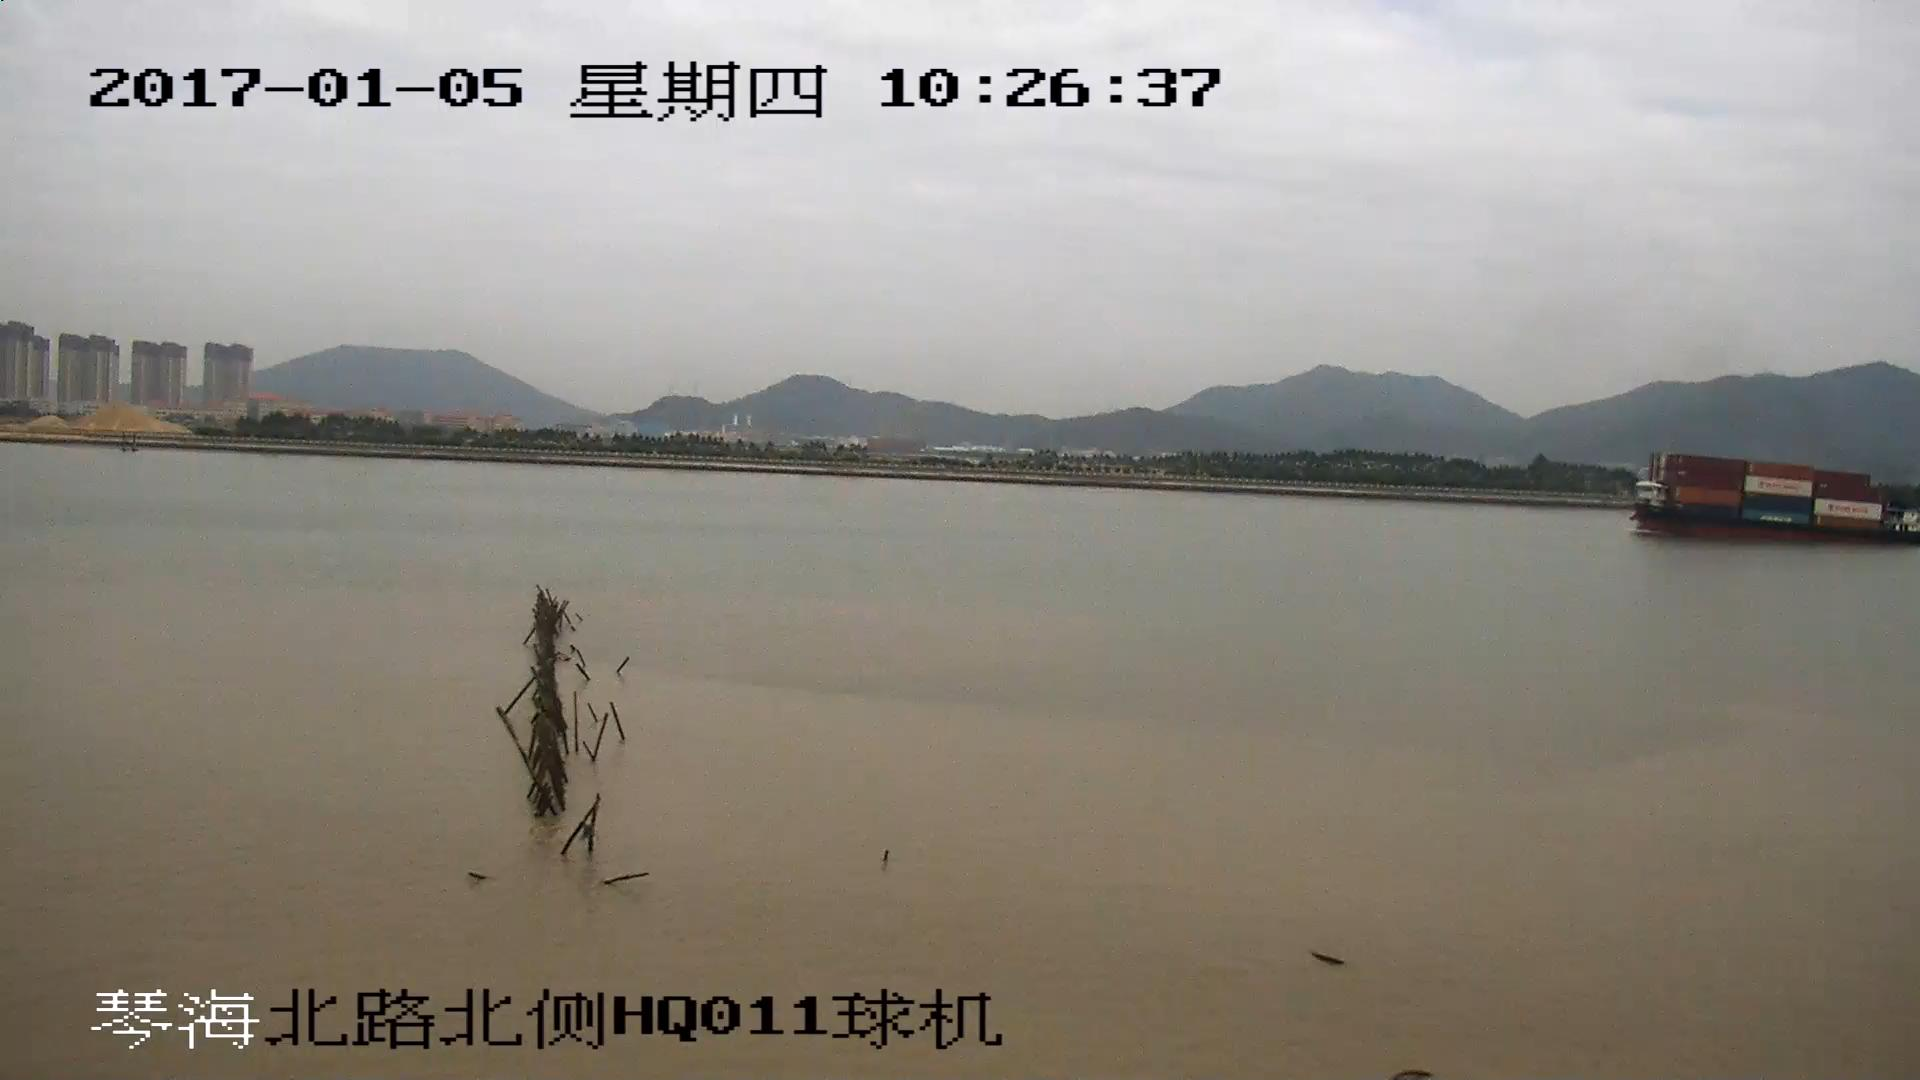container ship: (1624, 457, 1920, 543)
